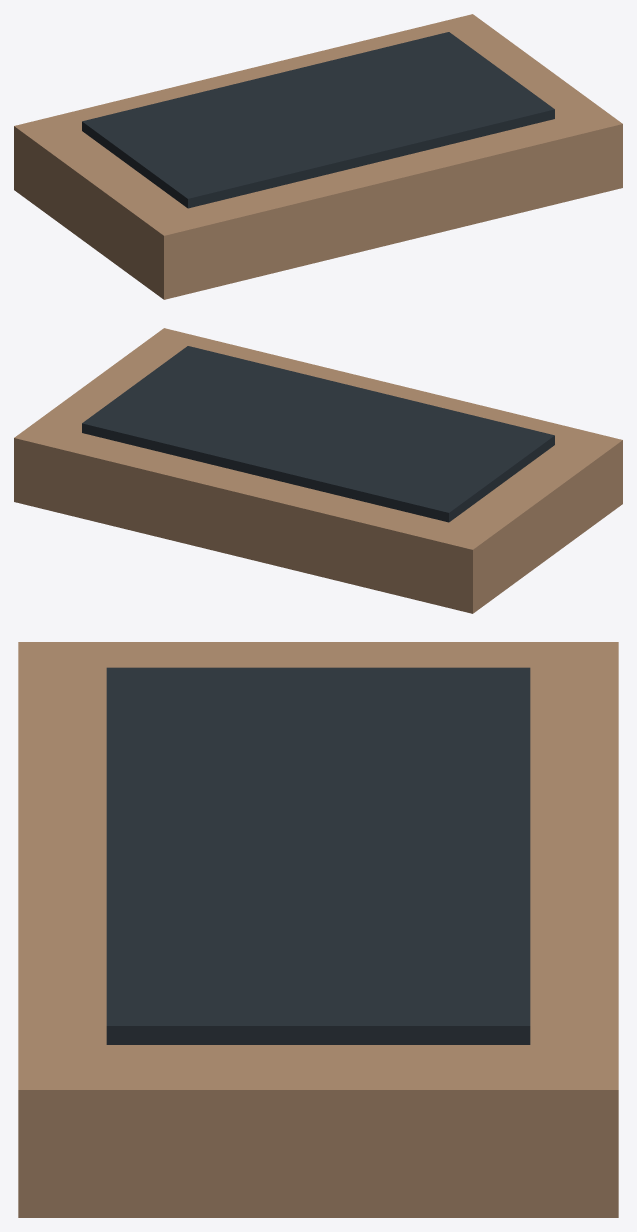
Rendered from early-console-lod2.glb.
The picture shows the model from 3 angles, top to bottom: view 1: azimuth 30°, elevation 25°; view 2: azimuth 150°, elevation 25°; view 3: azimuth 270°, elevation 25°; orthographic projection. The views are drawn at different scales.
Visible parts, largest first — view 1: console, top_panel; view 2: console, top_panel; view 3: console, top_panel.
Boxes of the visible parts, left/top/right/bottom form: console: left=14, top=14, right=622, bottom=299; top_panel: left=82, top=32, right=554, bottom=208; console: left=14, top=328, right=622, bottom=613; top_panel: left=82, top=346, right=554, bottom=522; console: left=18, top=642, right=618, bottom=1217; top_panel: left=106, top=667, right=530, bottom=1044.
Size of the model in its own units: 6 by 0.92 by 3.4.
